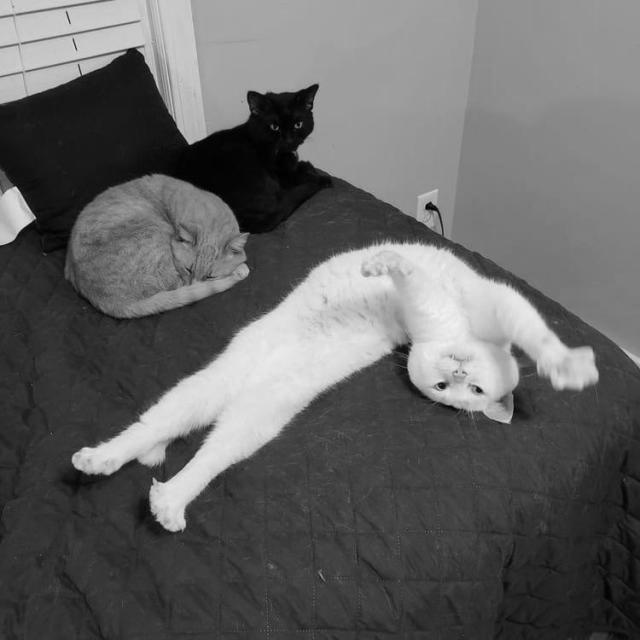Cat: (360, 240, 599, 424), (62, 171, 250, 319), (167, 82, 333, 234)
